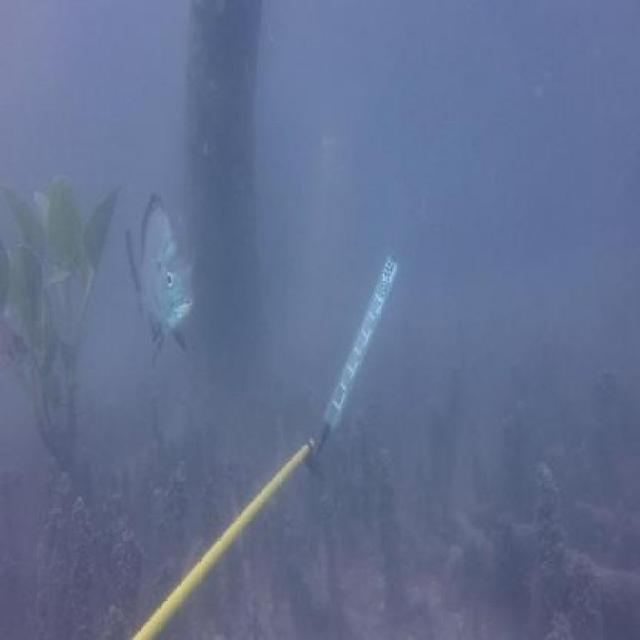acanthopagrus_palmaris: (121, 186, 197, 371)
